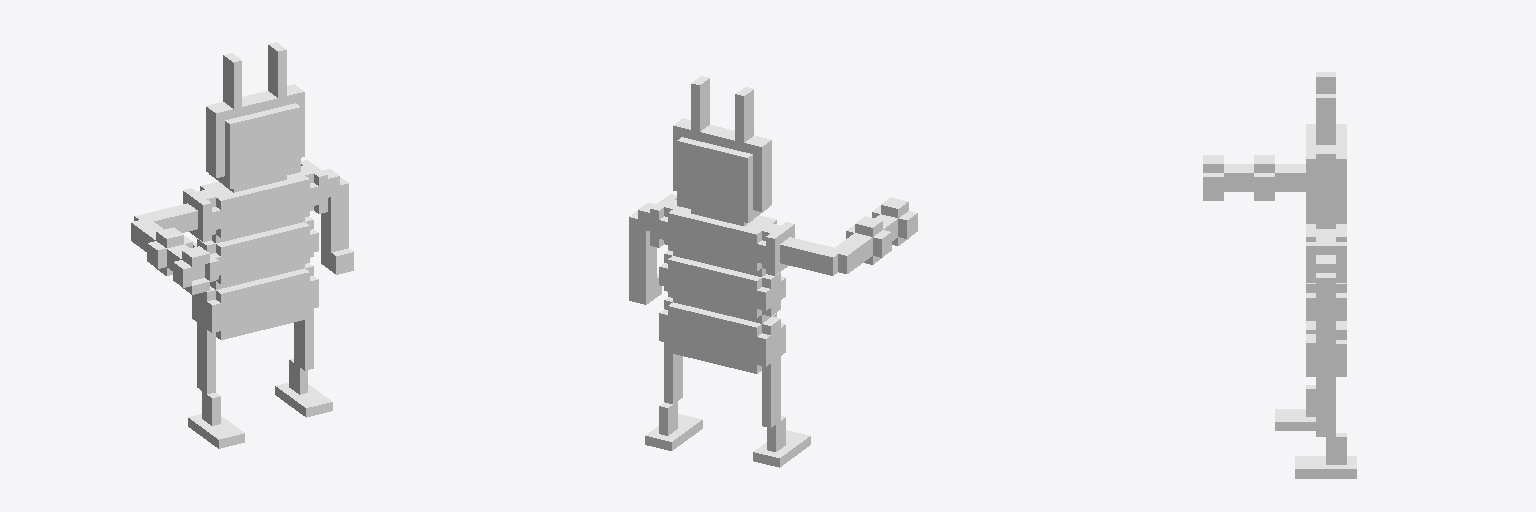
Rendered from work3.obj.
3 views of the same model, side by side, from view 1: azimuth 30°, elevation 25°; view 2: azimuth 150°, elevation 25°; view 3: azimuth 270°, elevation 25° (orthographic).
Visible parts, largest first — view 1: work3; view 2: work3; view 3: work3.
Part boxes in pixels (left/top/right/bottom): work3: left=131, top=42, right=353, bottom=448; work3: left=629, top=76, right=917, bottom=467; work3: left=1203, top=72, right=1356, bottom=478.
Size of the model in its own units: 25 by 39 by 15.